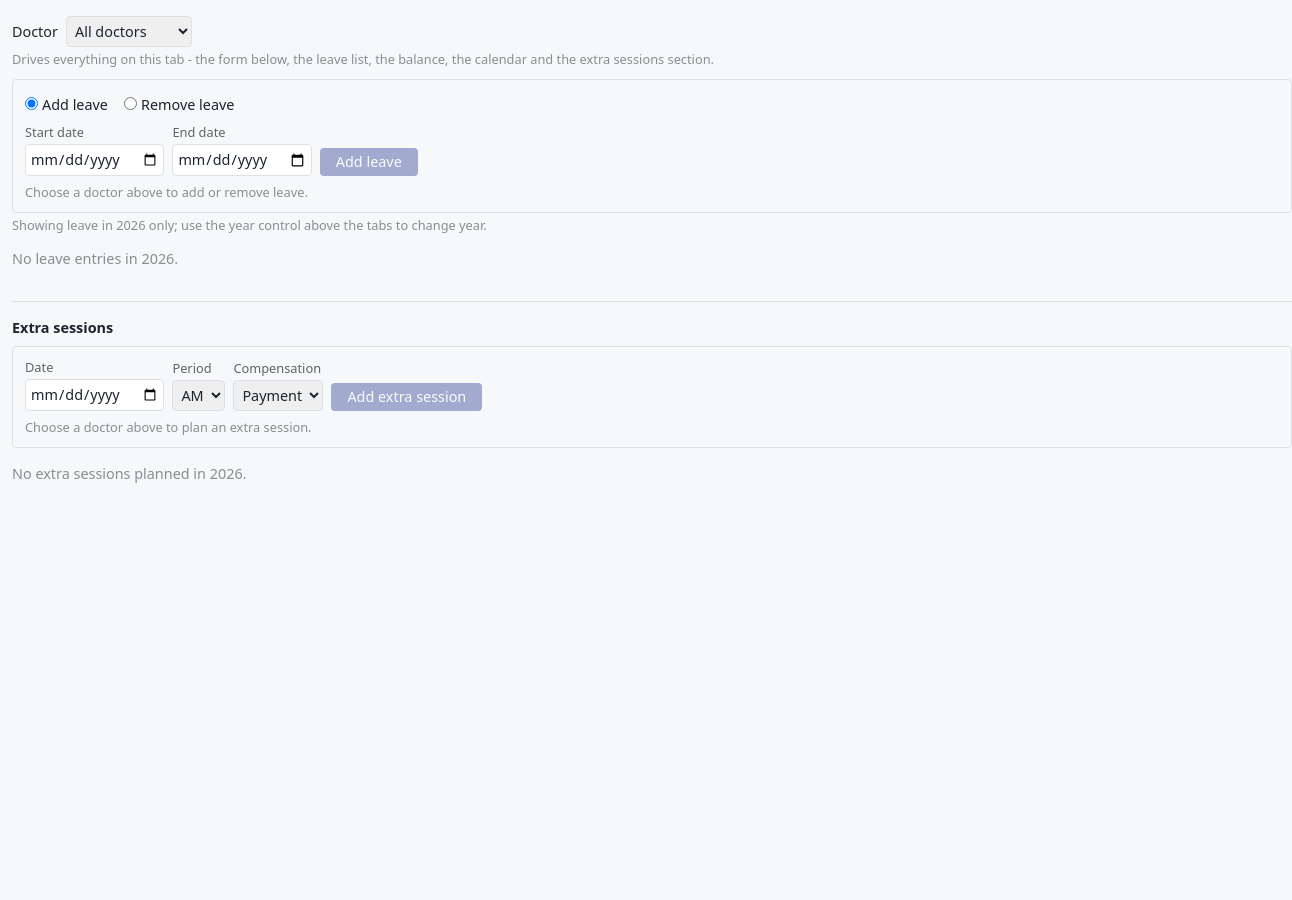
Scenario: LeavePage › selecting an inactive doctor disables Add leave but leaves Remove leave usable
Select "ZZ (inactive)" in the dropdown labelled "Doctor": (129, 32) x1=66 y1=16 x2=192 y2=47
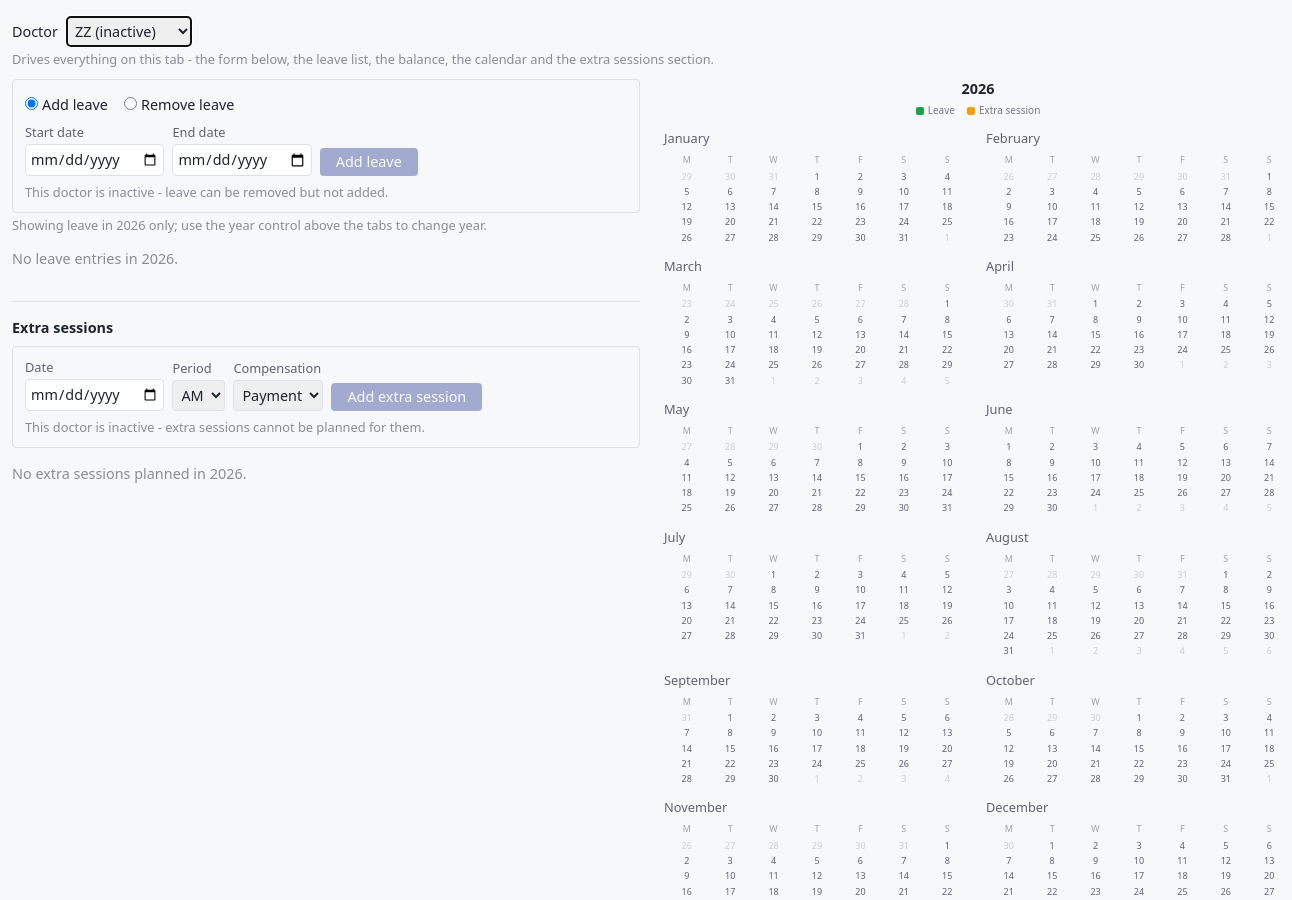
Check: the button "Add leave" is disabled, box x1=320 y1=148 x2=418 y2=176
Check: the text "This doctor is inactive - leave can be removed but not added." is shown, box x1=25 y1=183 x2=388 y2=201
Click the radio button labelled "Remove leave": (130, 104) x1=124 y1=97 x2=137 y2=110
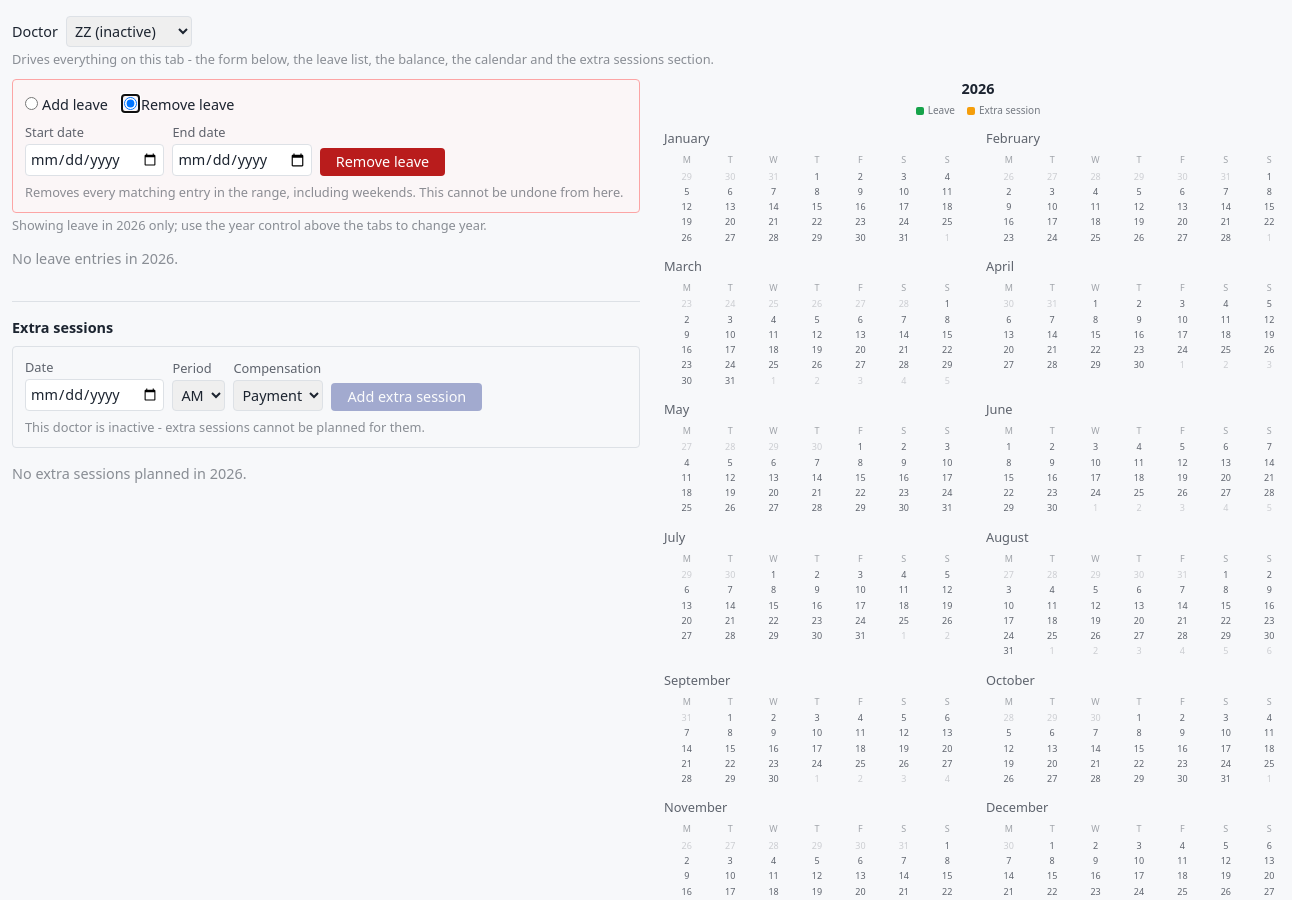
Check: the button "Remove leave" is enabled, box x1=320 y1=148 x2=445 y2=176
